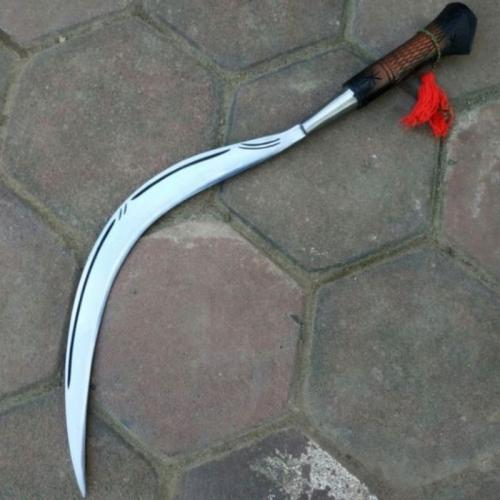foice: (60, 4, 479, 497)
